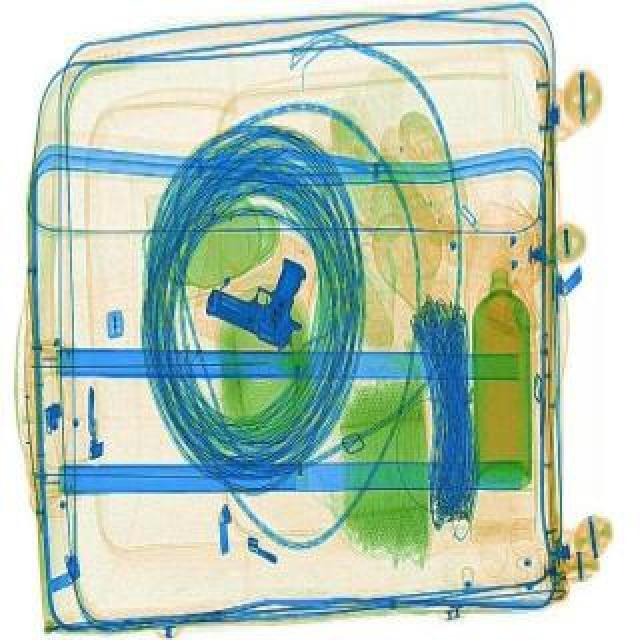gun: (196, 236, 324, 348)
